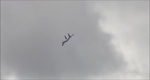maybay_muctieu: (61, 32, 74, 48)
